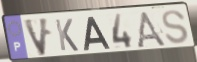4: (110, 12, 136, 50)
A: (135, 9, 169, 48), (83, 16, 112, 52)
K: (54, 18, 81, 53)
S: (161, 9, 190, 46)
V: (22, 16, 51, 58)
